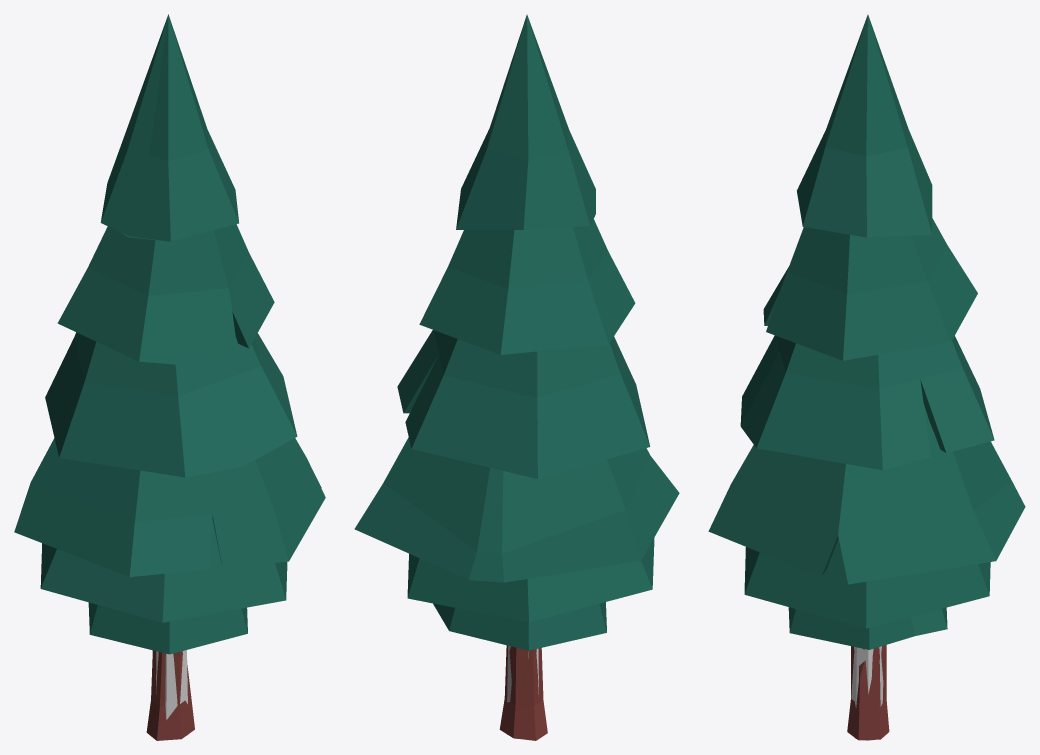
Rendered from floresta_tree_spruce_large.glb.
The picture shows the model from 3 angles, left to right: view 1: azimuth 30°, elevation 25°; view 2: azimuth 150°, elevation 25°; view 3: azimuth 270°, elevation 25°; orthographic projection.
Parts seen in each view (by area): view 1: Spruce big f, Colisao; view 2: Spruce big f; view 3: Spruce big f, Colisao.
Boxes of the visible parts, left/top/right/bottom form: Spruce big f: left=14, top=14, right=325, bottom=740; Colisao: left=156, top=650, right=188, bottom=735; Spruce big f: left=354, top=14, right=679, bottom=740; Spruce big f: left=708, top=14, right=1025, bottom=740; Colisao: left=851, top=646, right=883, bottom=740.
Bounding box in the file's own units: 6.8 × 16.86 × 6.75.
